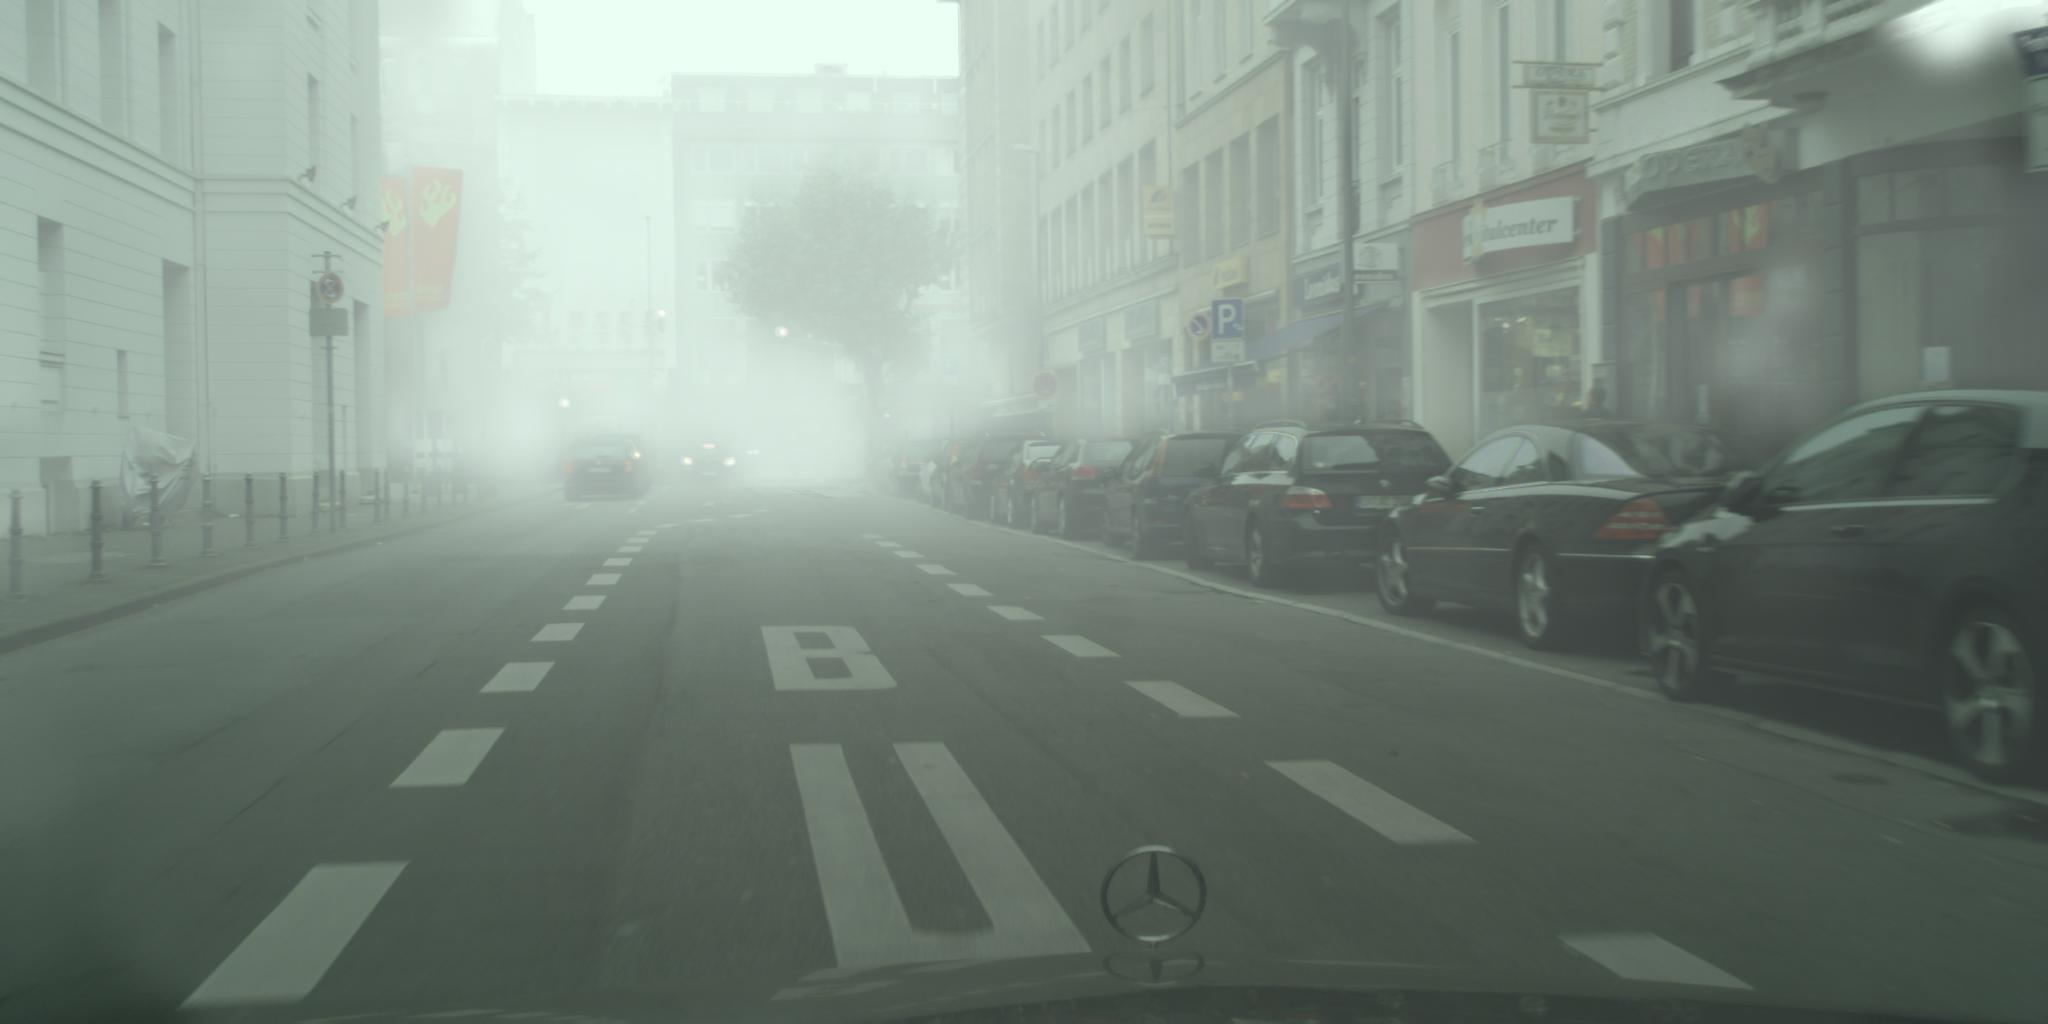car: (1638, 391, 2048, 786), (1374, 417, 1774, 649), (1183, 417, 1479, 588), (1097, 427, 1250, 560), (1031, 438, 1169, 539), (948, 431, 1050, 521), (989, 440, 1081, 528), (564, 441, 644, 502), (930, 440, 976, 511), (889, 440, 942, 500), (916, 440, 960, 504), (680, 443, 738, 490), (872, 441, 913, 498), (865, 441, 906, 491)
